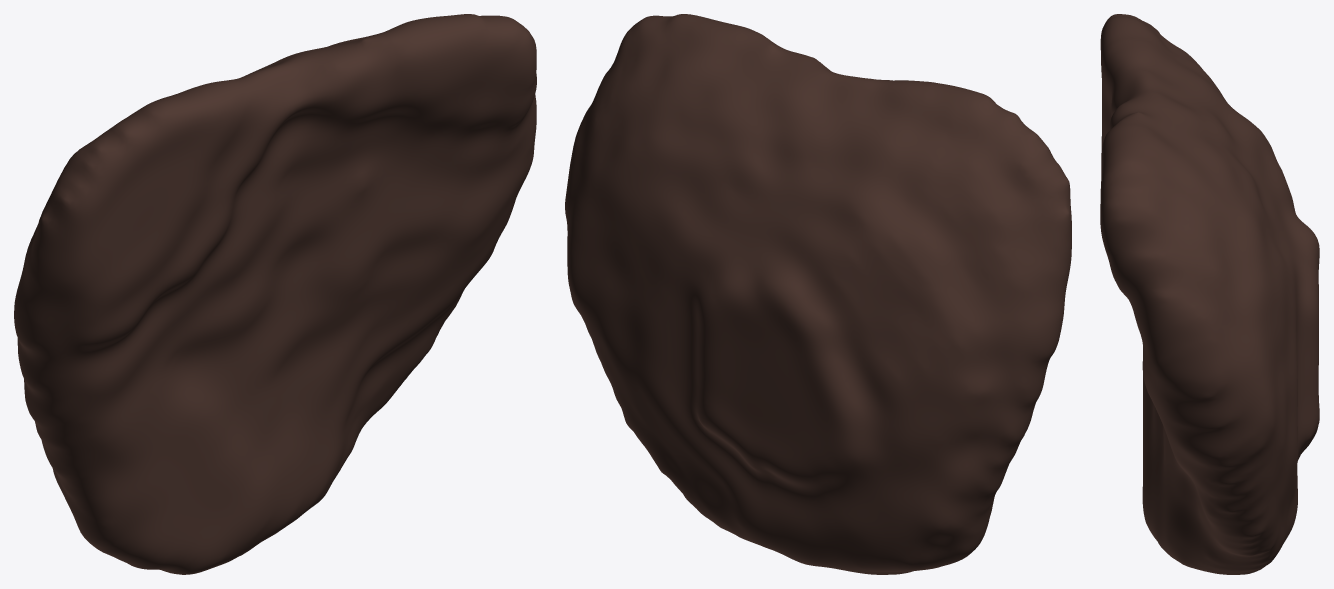
Rendered from urinary bladder.obj.
3 renders of one model, left to right at view 1: azimuth 30°, elevation 25°; view 2: azimuth 150°, elevation 25°; view 3: azimuth 270°, elevation 25°, orthographic. The views are drawn at different scales.
Visible parts, largest first — view 1: grp1; view 2: grp1; view 3: grp1.
Boxes of the visible parts, x1,y1,x2,y2 form: grp1: [14, 14, 536, 574]; grp1: [565, 14, 1071, 574]; grp1: [1100, 14, 1319, 574].
Size of the model in its own units: 70.42 by 67.37 by 26.79.
